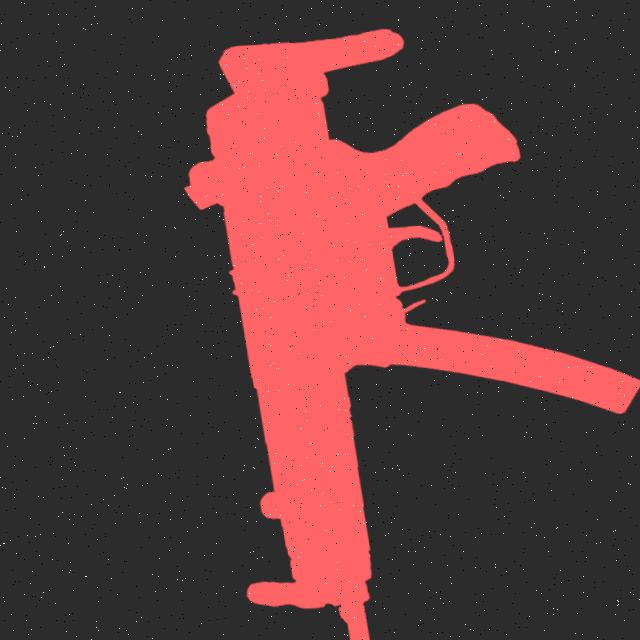firearm: (149, 6, 640, 640)
